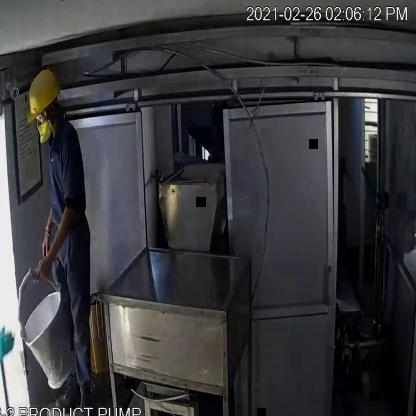helmet: (26, 68, 61, 124)
